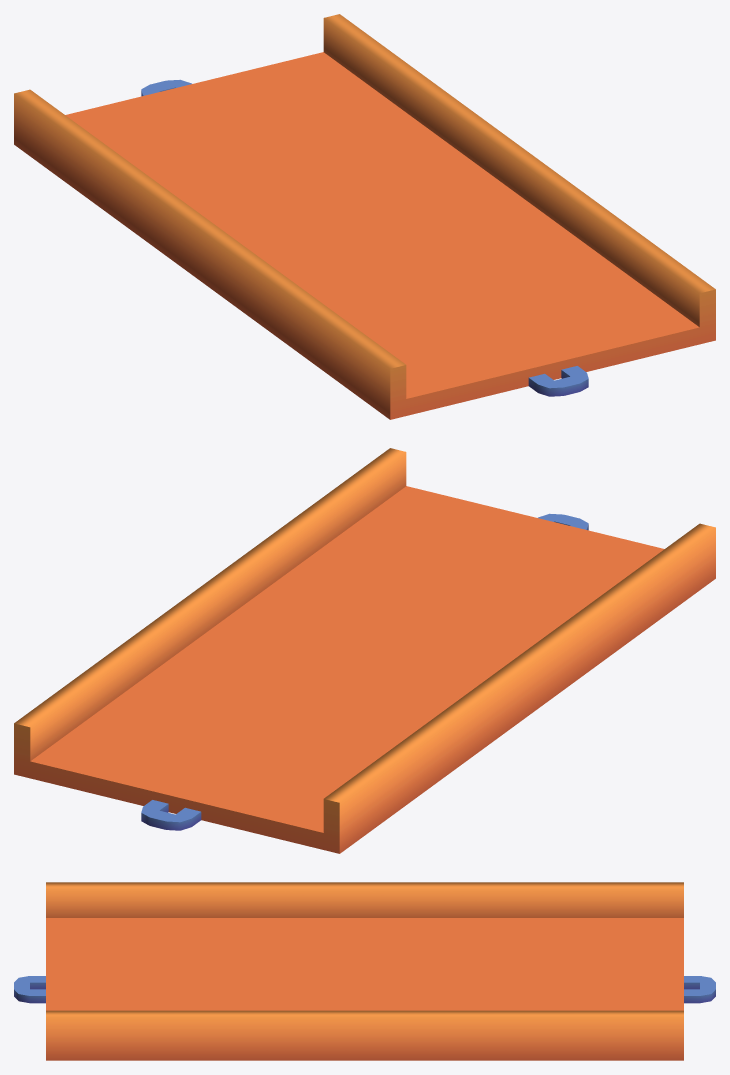
File: track-wide-straight.glb
3 renders of one model, top to bottom at view 1: azimuth 30°, elevation 25°; view 2: azimuth 150°, elevation 25°; view 3: azimuth 270°, elevation 25°, orthographic. The views are drawn at different scales.
Parts seen in each view (by area): view 1: track-wide-straight; view 2: track-wide-straight; view 3: track-wide-straight.
Boxes of the visible parts, x1,y1,x2,y2 form: track-wide-straight: (14, 14, 715, 419); track-wide-straight: (14, 448, 715, 853); track-wide-straight: (14, 882, 715, 1060).
Size of the model in its own units: 2 by 0.2997 by 4.4.
1 material, 1 textured.
